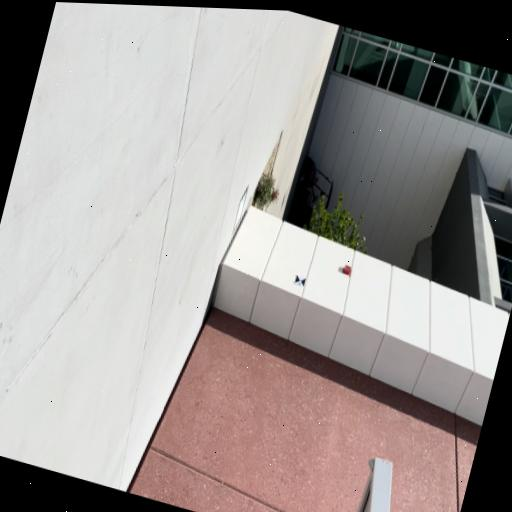target9: (294, 274, 306, 287)
